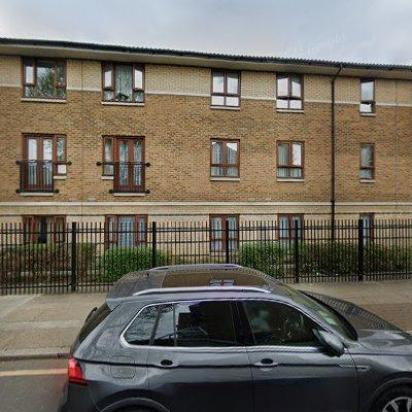stationary-car-onstreet: (57, 261, 411, 411)
